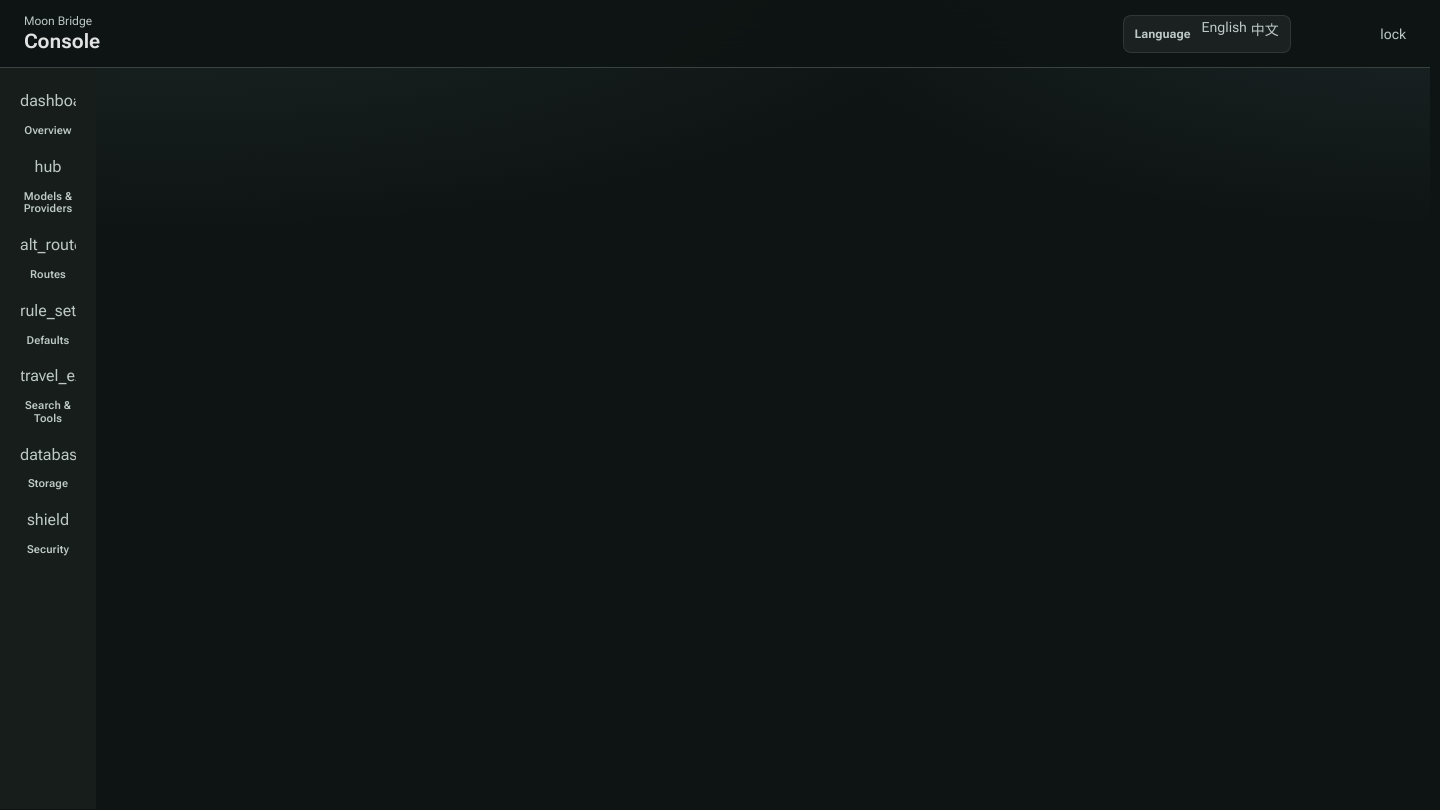
Test: AppShell › changes locale through Material Web locale actions
The image size is (1440, 810).
Click the text "中文".
click(1265, 30)  # box [1251,22,1279,38]
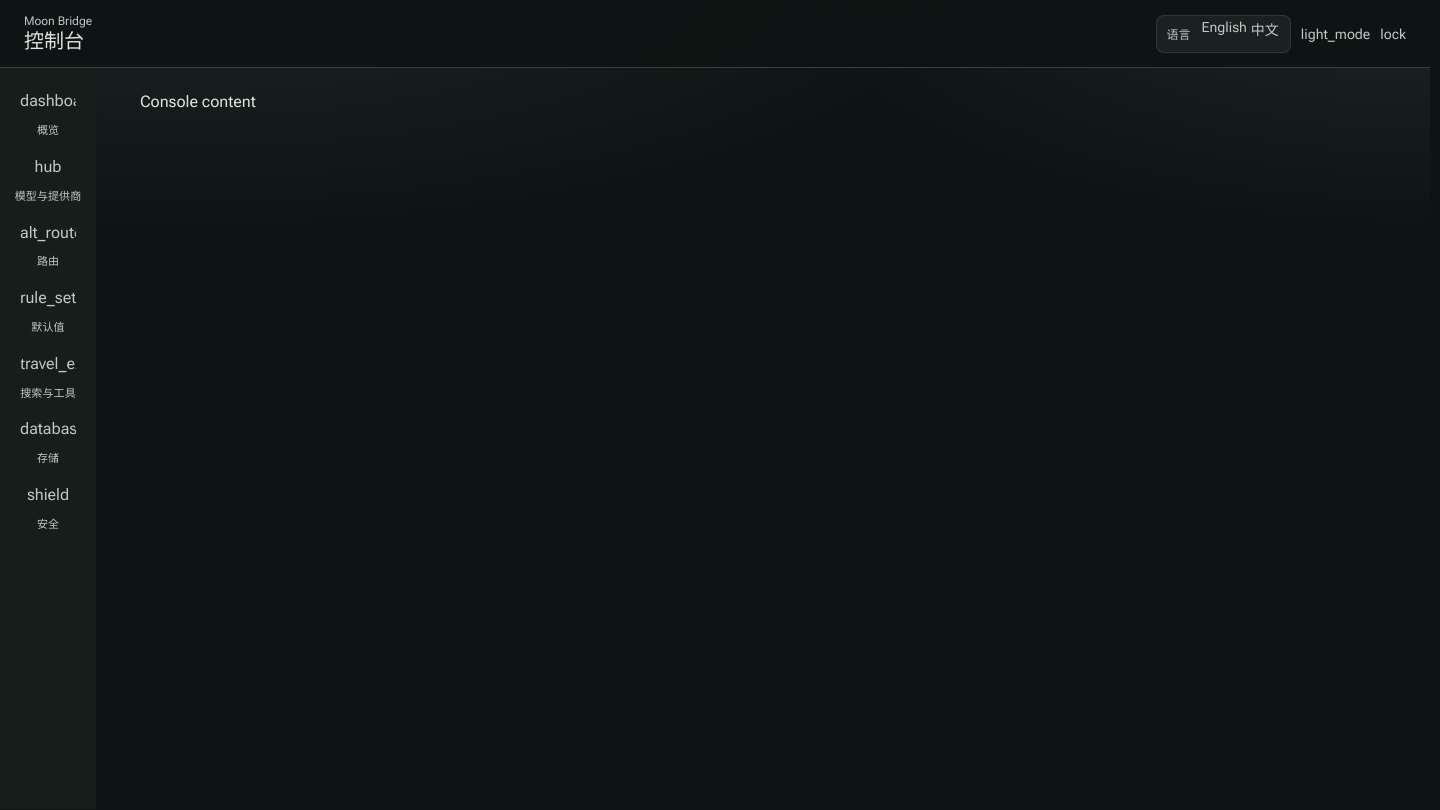
Expected: the navigation bar named "控制台分区" is shown, [0,68,96,809]
